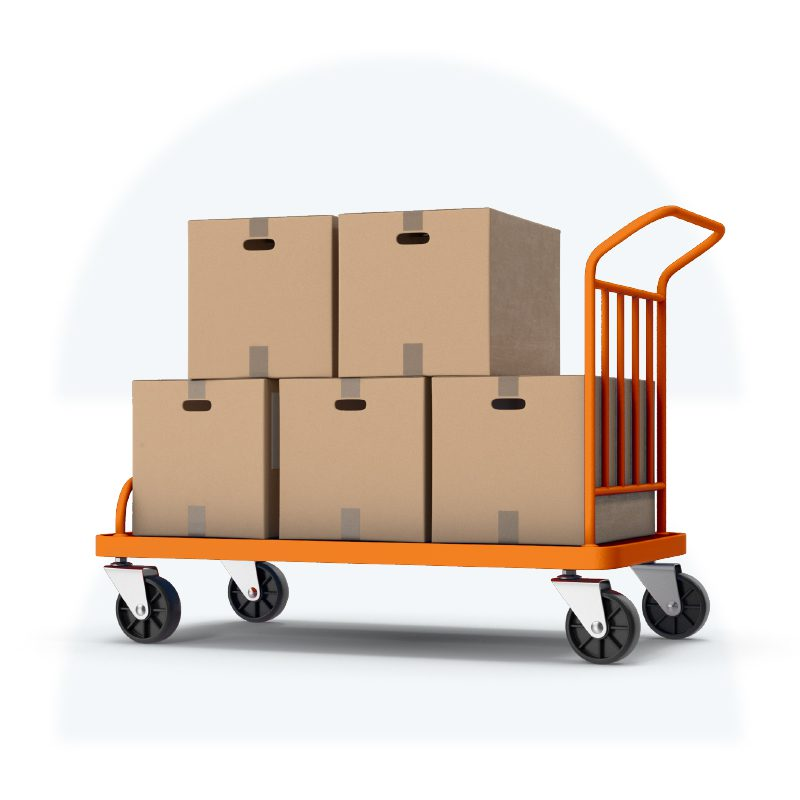box: (338, 208, 559, 375), (432, 376, 583, 544), (280, 378, 428, 541), (189, 216, 336, 378), (133, 379, 277, 537)
